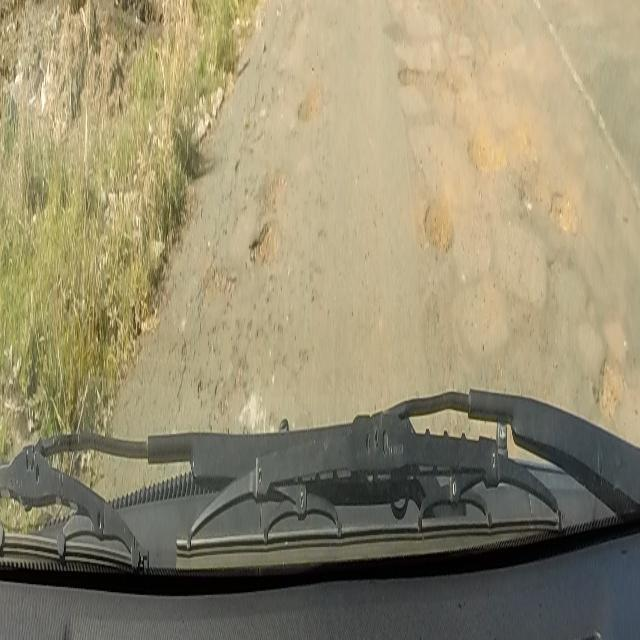pothole: (466, 125, 508, 175), (422, 197, 454, 254), (590, 356, 620, 414), (396, 56, 446, 90), (248, 212, 278, 268), (548, 186, 577, 239), (296, 90, 320, 120)
